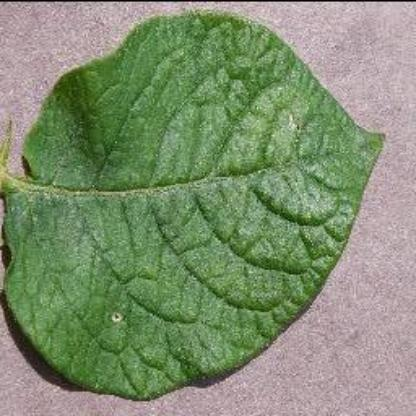Healthy-plant: (0, 10, 392, 404)
